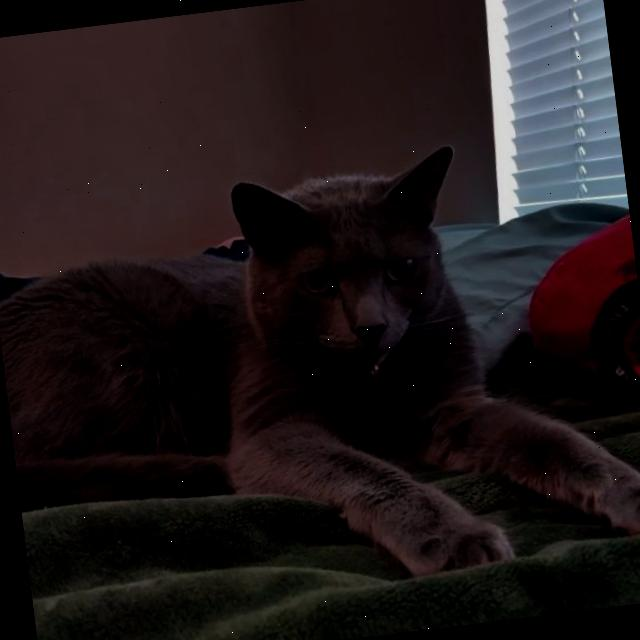russian_blue_cat: (201, 121, 496, 414)
